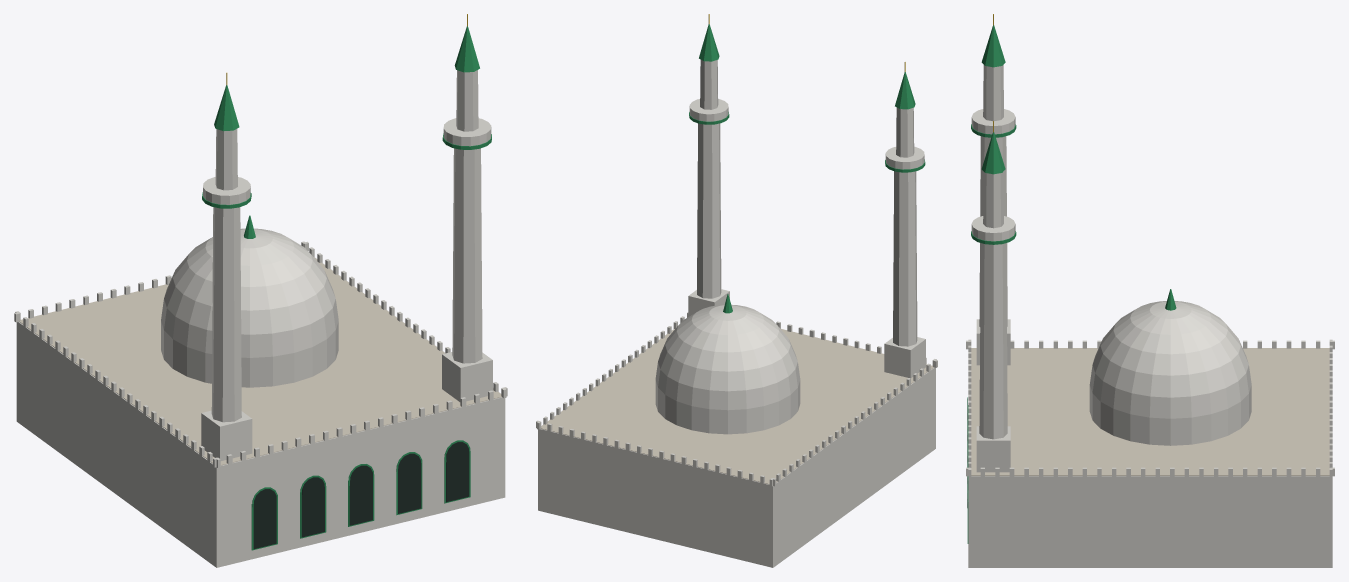
The model's file is mosquee_divinite.glb.
3 views of the same model, side by side, from view 1: azimuth 30°, elevation 25°; view 2: azimuth 150°, elevation 25°; view 3: azimuth 270°, elevation 25° (orthographic). The views are drawn at different scales.
Visible parts, largest first — view 1: mosquee_divinite; view 2: mosquee_divinite; view 3: mosquee_divinite.
Part boxes in pixels (x1,y1,x2,y2): mosquee_divinite: (14,14,507,567); mosquee_divinite: (536,14,937,567); mosquee_divinite: (966,14,1334,567).
Bounding box in the file's own units: 30.44 × 47.55 × 36.44.
